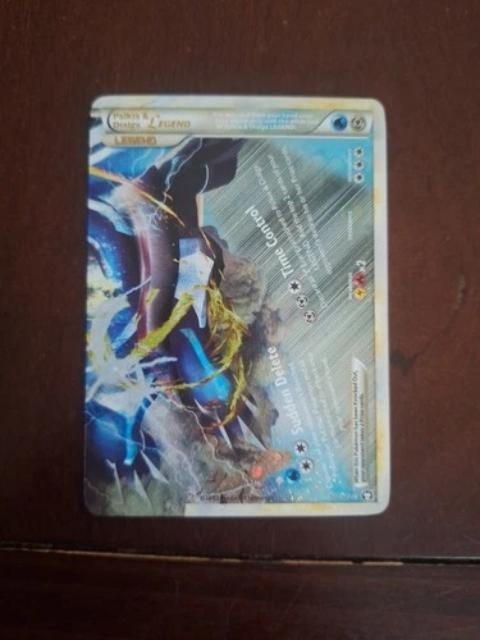Card: (78, 91, 395, 521)
Name: (105, 107, 200, 134)
